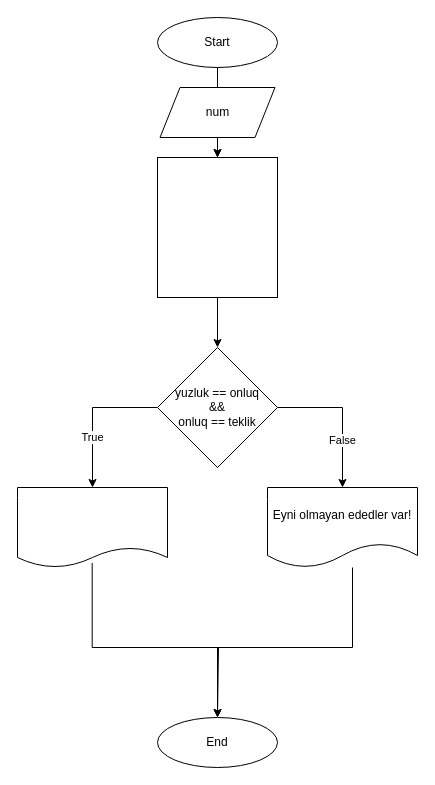
Some shapes in this 435 by 785 pixel diagram are drawn without their labels. Each missing label, with the centre of its shape:
Butun ededler eynidir.: pixel 92 527
yuzluk = (num % 1000) / 100 onluq = (num % 100) / 10 teklik = num % 10: pixel 217 227
